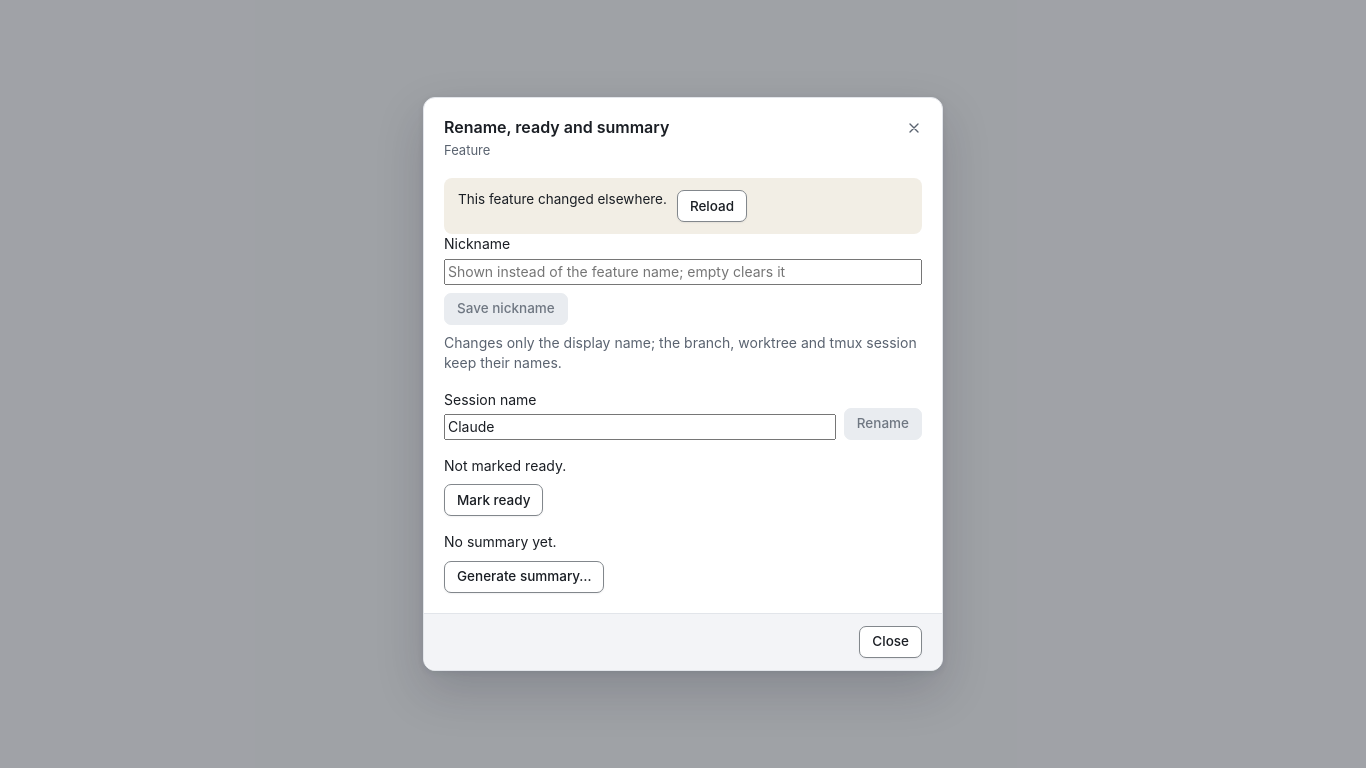
Test: offers a reload when the feature changed elsewhere and keeps the draft's baseline
Expected: the text "This feature changed elsewhere. Reload" is shown, [444, 178, 922, 234]
Expected: the field labelled "Nickname" is empty, [444, 259, 922, 285]
Click the button "Reload" at (712, 206), box [677, 190, 747, 222]
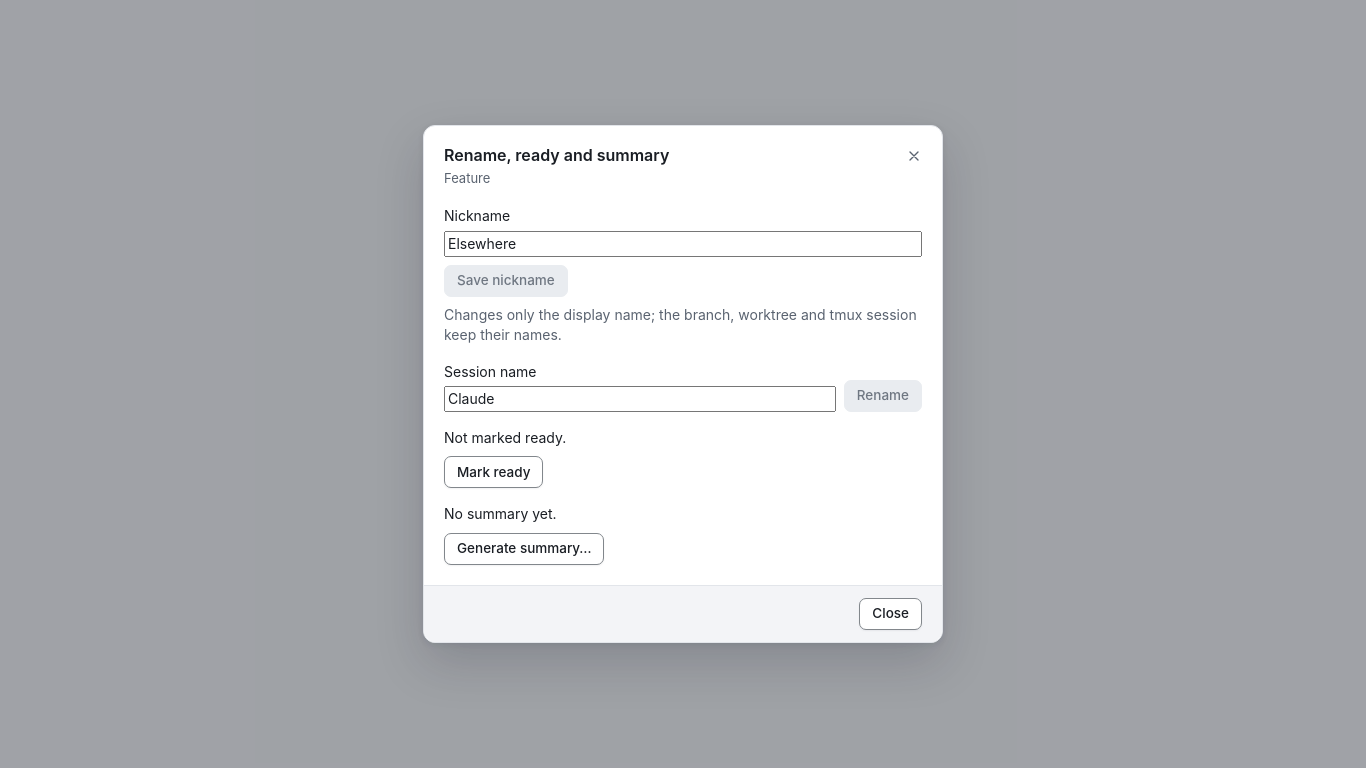
Result: the field labelled "Nickname" holds "Elsewhere" at [444, 231, 922, 257]
